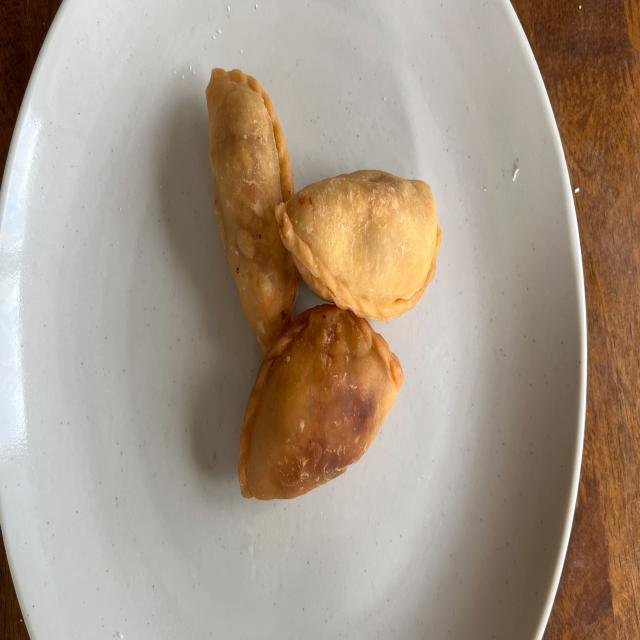karipap: (239, 304, 404, 500), (206, 69, 299, 358), (275, 171, 441, 320)
